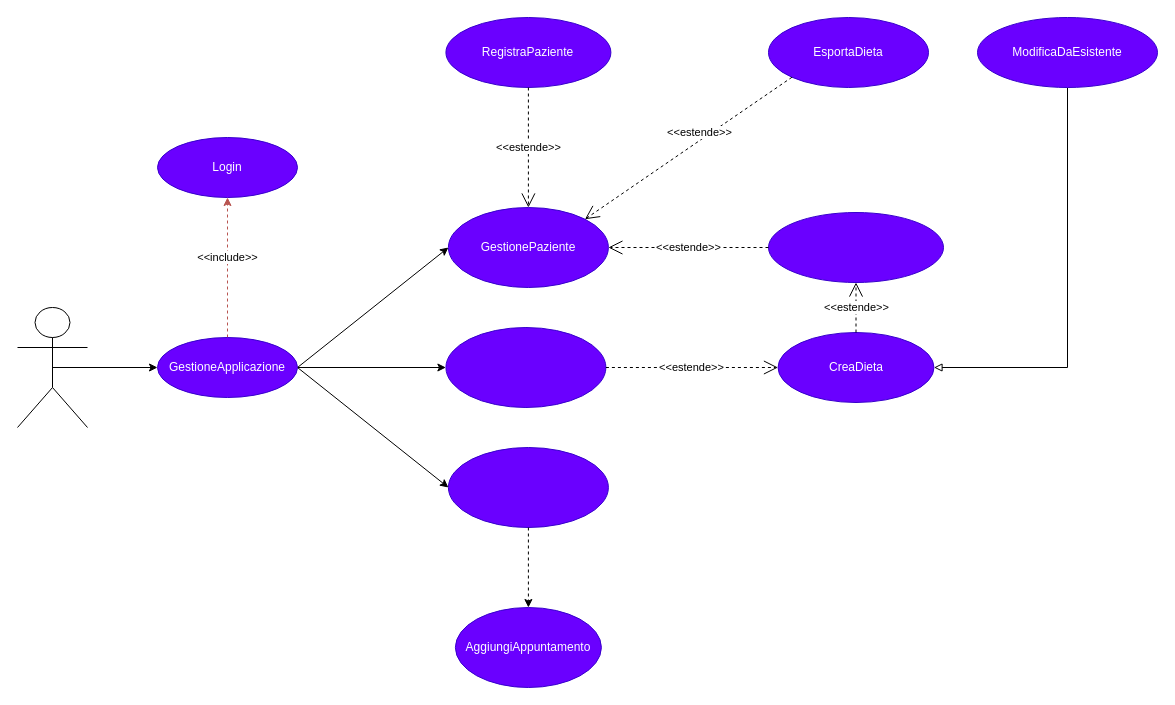
Image size: 1175x705. Some labels were removed from this diagram. Each missing label, with the box of its shape:
AggiornaPaziente: (768, 212, 944, 282)
GestioneAlimenti: (445, 326, 606, 408)
GestioneCalendario: (447, 446, 608, 528)
Nutrizionista: (16, 306, 88, 428)
